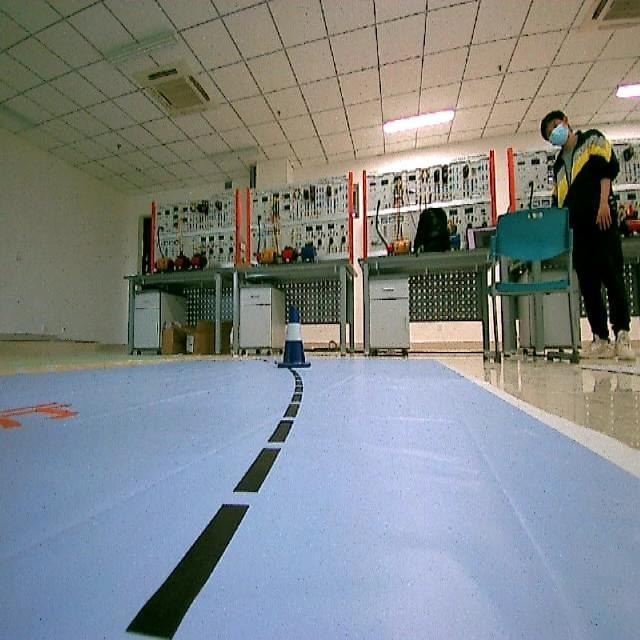obstacle: (272, 298, 322, 374)
